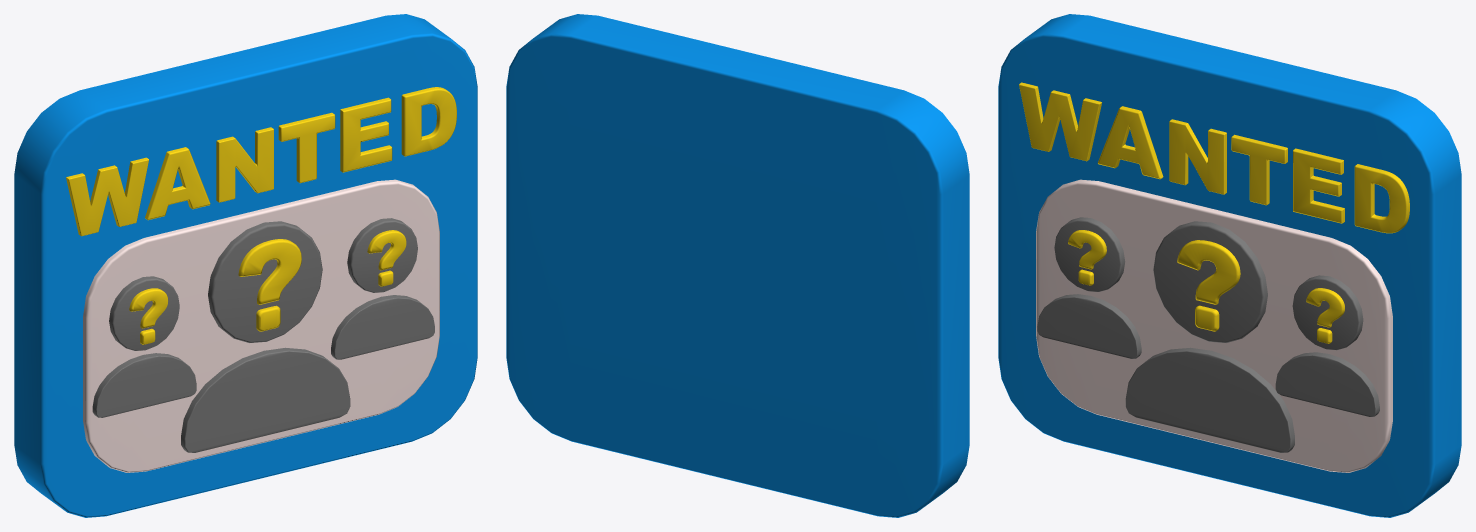
Rendered from Public_16_Poster_Wanted_1.glb.
3 views of the same model, side by side, from view 1: azimuth 30°, elevation 25°; view 2: azimuth 150°, elevation 25°; view 3: azimuth 330°, elevation 25° (orthographic).
Parts seen in each view (by area): view 1: Public_16_Poster_Wanted_1; view 2: Public_16_Poster_Wanted_1; view 3: Public_16_Poster_Wanted_1.
Part boxes in pixels (x1,y1,x2,y2): Public_16_Poster_Wanted_1: (14,14,477,517); Public_16_Poster_Wanted_1: (506,14,969,517); Public_16_Poster_Wanted_1: (998,14,1461,517).
Bounding box in the file's own units: 1.02 × 0.9071 × 0.1574.
Materials: 1 (1 with a texture image).
